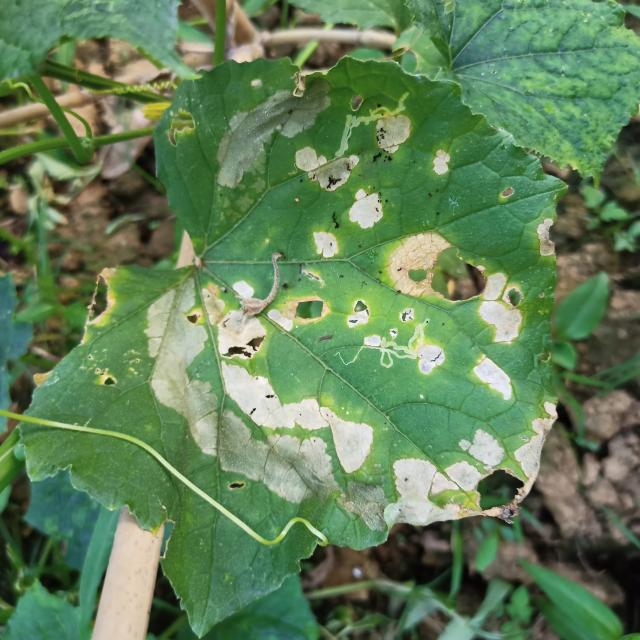disease_cucumber: (281, 103, 563, 345), (135, 273, 374, 537), (387, 335, 561, 547)
